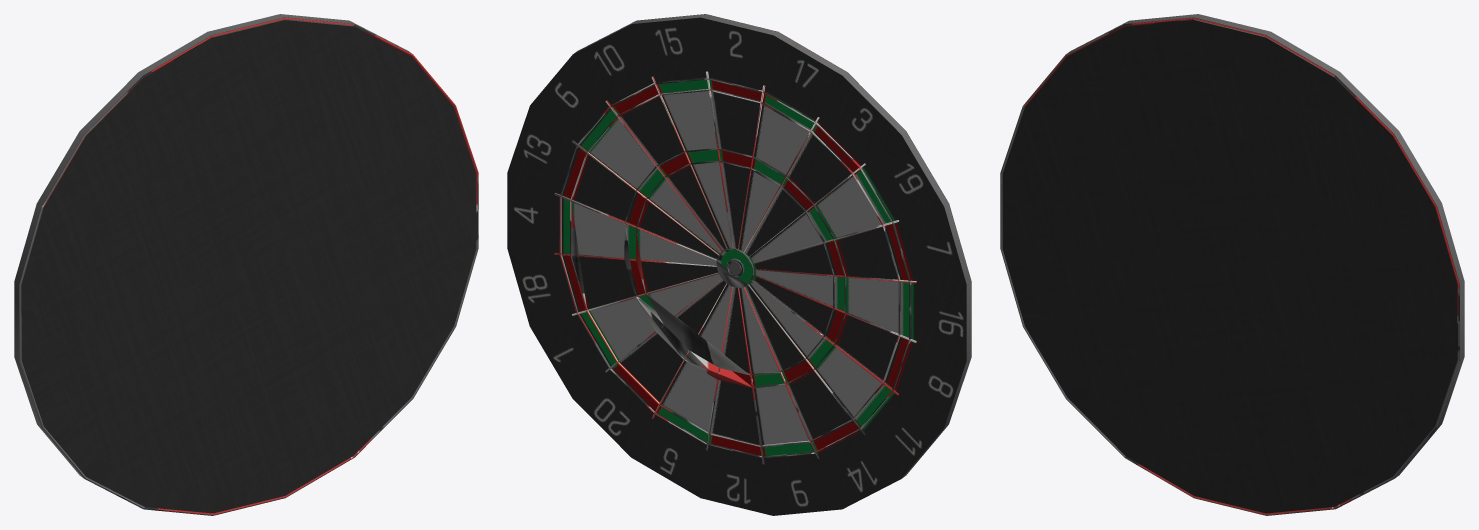
The model's file is darts.fbx.
The picture shows the model from 3 angles, left to right: view 1: azimuth 30°, elevation 25°; view 2: azimuth 150°, elevation 25°; view 3: azimuth 330°, elevation 25°; orthographic projection.
Parts seen in each view (by area): view 1: darts; view 2: darts; view 3: darts.
Boxes of the visible parts, x1,y1,x2,y2 form: darts: (14,14,478,515); darts: (507,14,971,515); darts: (1000,14,1464,515).
Bounding box in the file's own units: 706 × 706 × 19.6.
Materials: 1 (1 with a texture image).
